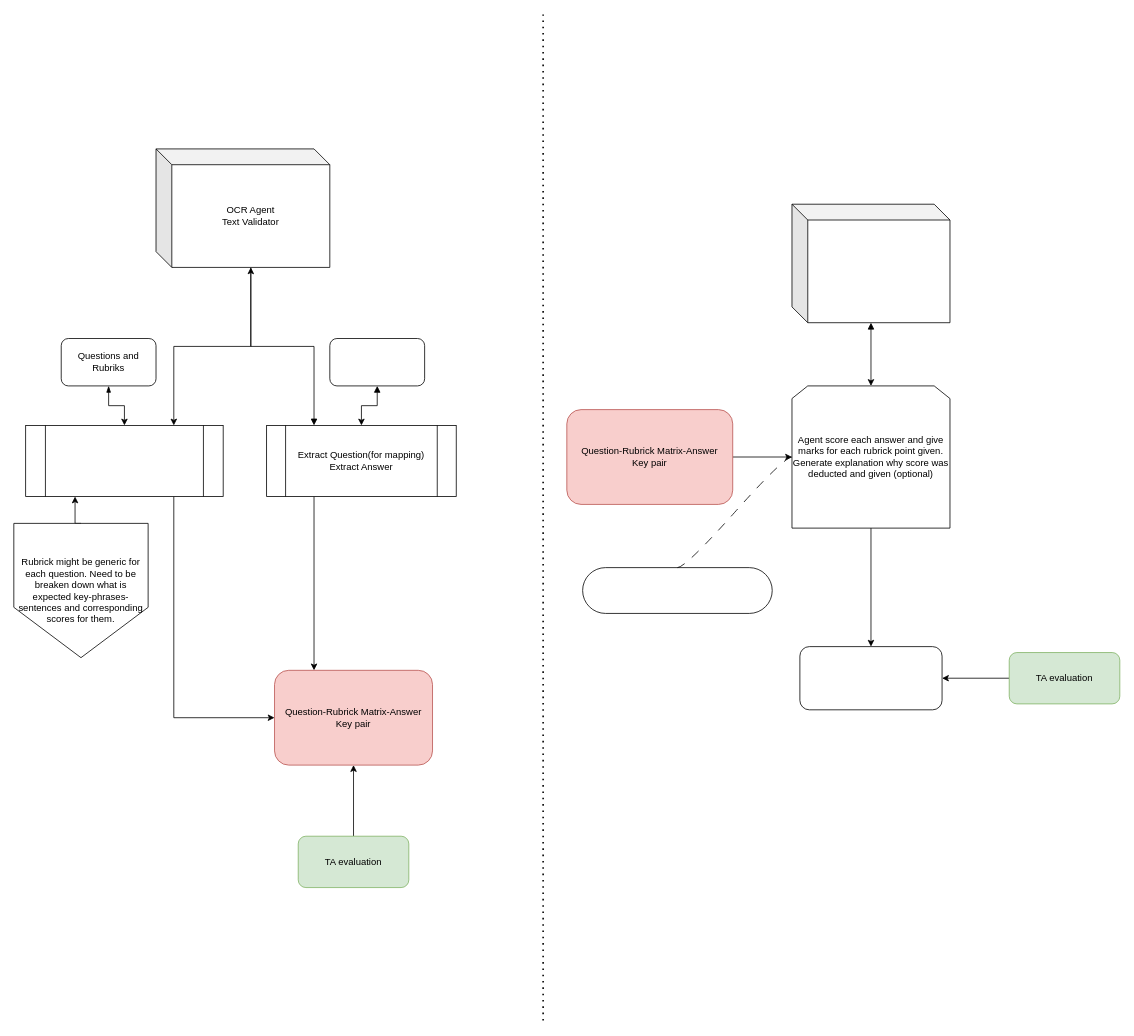
This 1134x1036 diagram has some shape labels left out. The centre of each missing label's shape, as x and y in pixels:
"Answer Sheet" belongs at pixel 377 362.
"Calculate final score - generate report - for better exam analysis" belongs at pixel 870 678.
"ChatGPT based agent RAG needed??" belongs at pixel 870 263.
"Confidence based scoring??" belongs at pixel 677 590.
"Extract Question Extract Rubrik Break down rubrik - Score Earned / Rubrickpoint" belongs at pixel 124 461.
